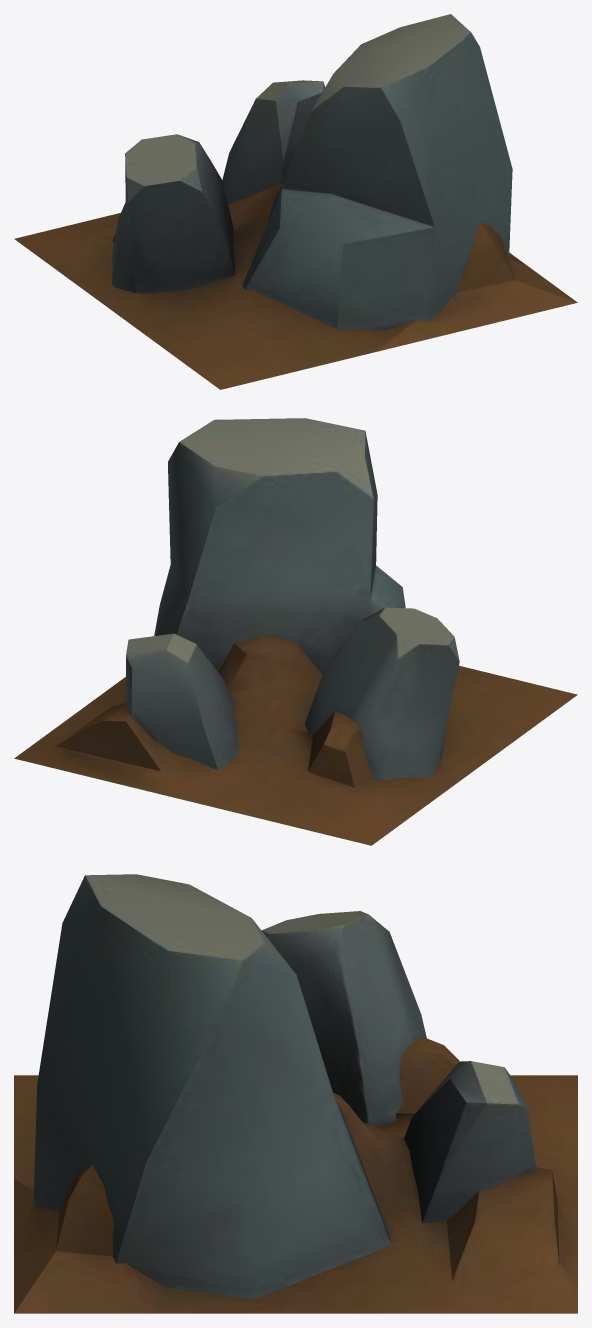
The model's file is OBJ_SmallRock_09.obj.
3 views of the same model, one above another, from view 1: azimuth 30°, elevation 25°; view 2: azimuth 150°, elevation 25°; view 3: azimuth 270°, elevation 25° (orthographic). The views are drawn at different scales.
Parts seen in each view (by area): view 1: OBJ_SmallRock_09; view 2: OBJ_SmallRock_09; view 3: OBJ_SmallRock_09.
Part boxes in pixels (box(x1,y1,x2,y2)): OBJ_SmallRock_09: box(14, 14, 577, 389); OBJ_SmallRock_09: box(14, 418, 577, 845); OBJ_SmallRock_09: box(14, 874, 577, 1313).
Size of the model in its own units: 2.4 by 1.6 by 2.4.
Materials: 1 (1 with a texture image).
